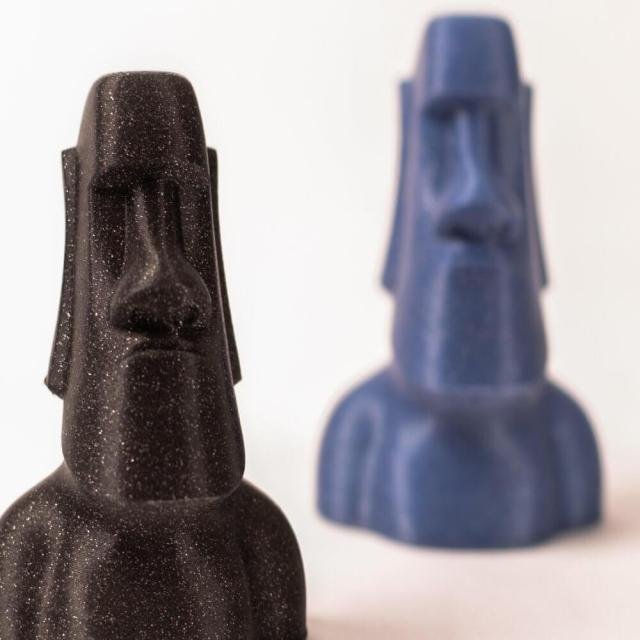Without deffect: (2, 51, 314, 635)
